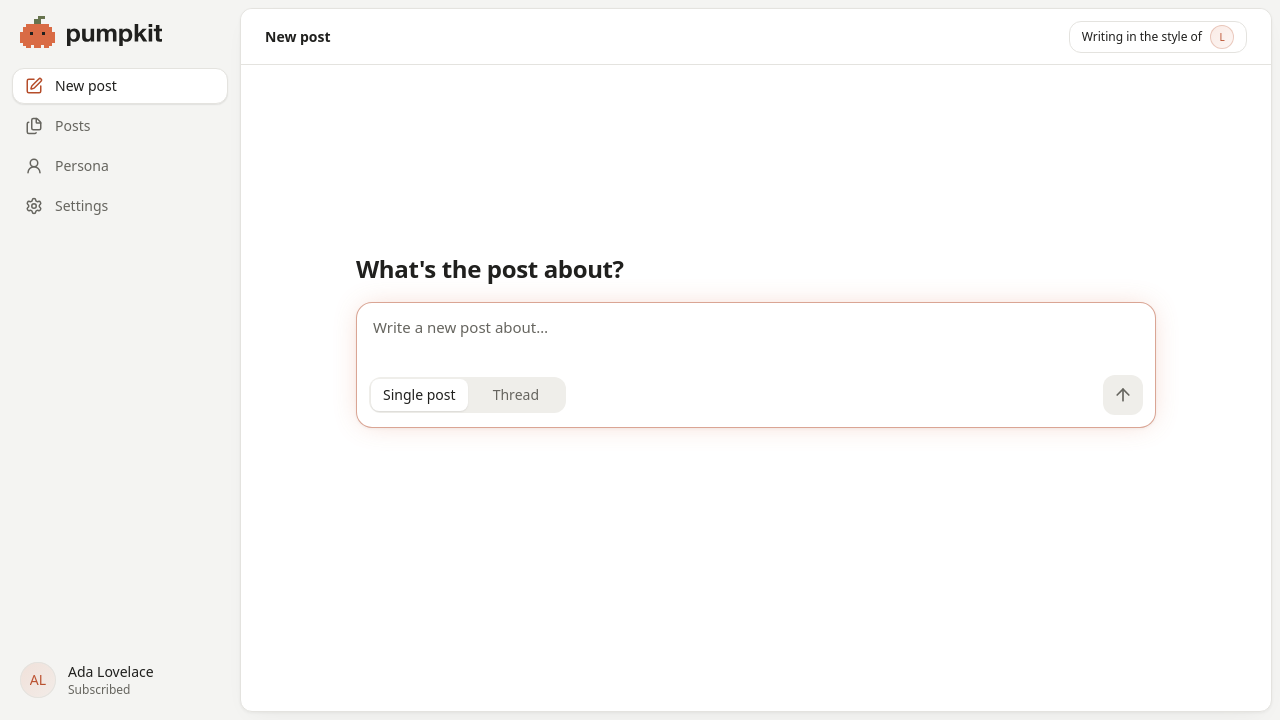
Scenario: New post › Persona chip › expands on the first tap and opens Persona on the second
What coordinates should you click on to do the following:
click the link with aria-label "Writing in the style of @levelsio"
I would click on:
 (1158, 36)
Its box is [1069, 20, 1247, 52].
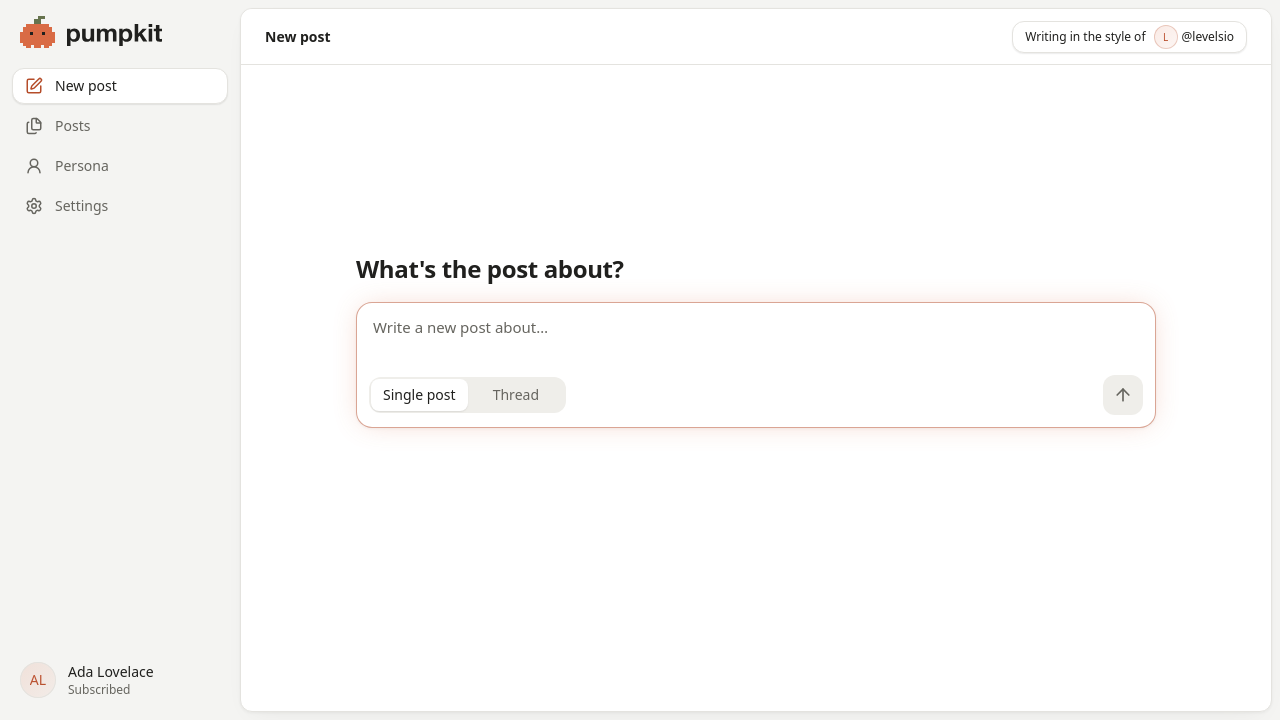
expect the text "@levelsio" is shown: met, box [1182, 28, 1234, 44]
What coordinates should you click on to do the following:
click the link with aria-label "Writing in the style of @levelsio"
I would click on:
 (1130, 36)
Its box is [1012, 20, 1247, 52].
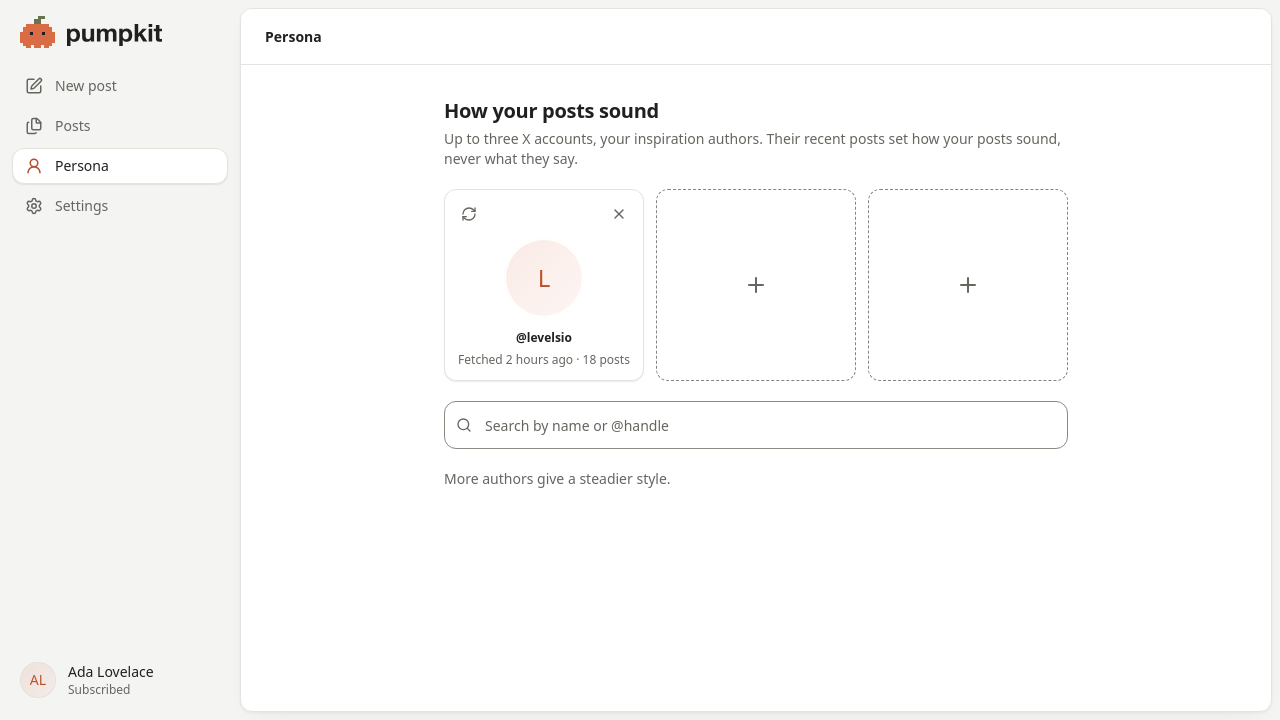
expect the heading "Persona" is shown: met, box [265, 26, 322, 46]
